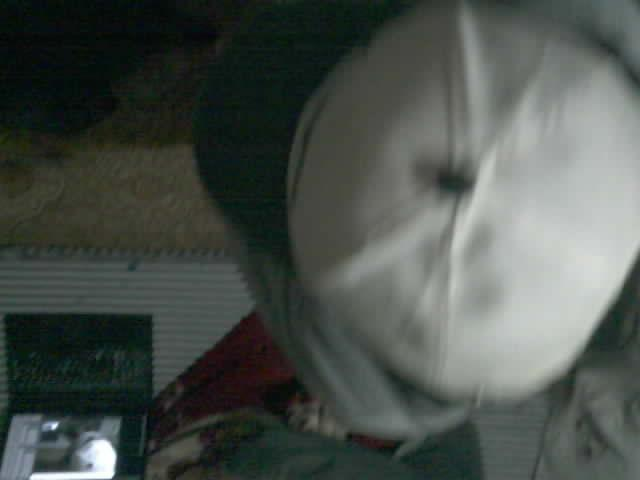cap: (287, 0, 639, 412)
